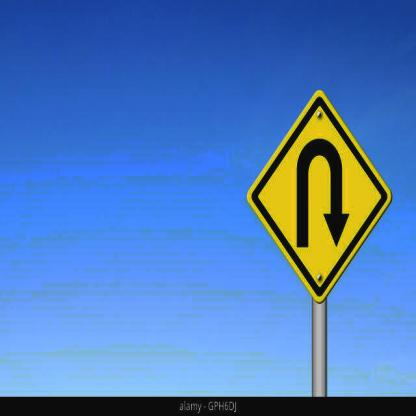U-turn: (244, 89, 392, 303)
